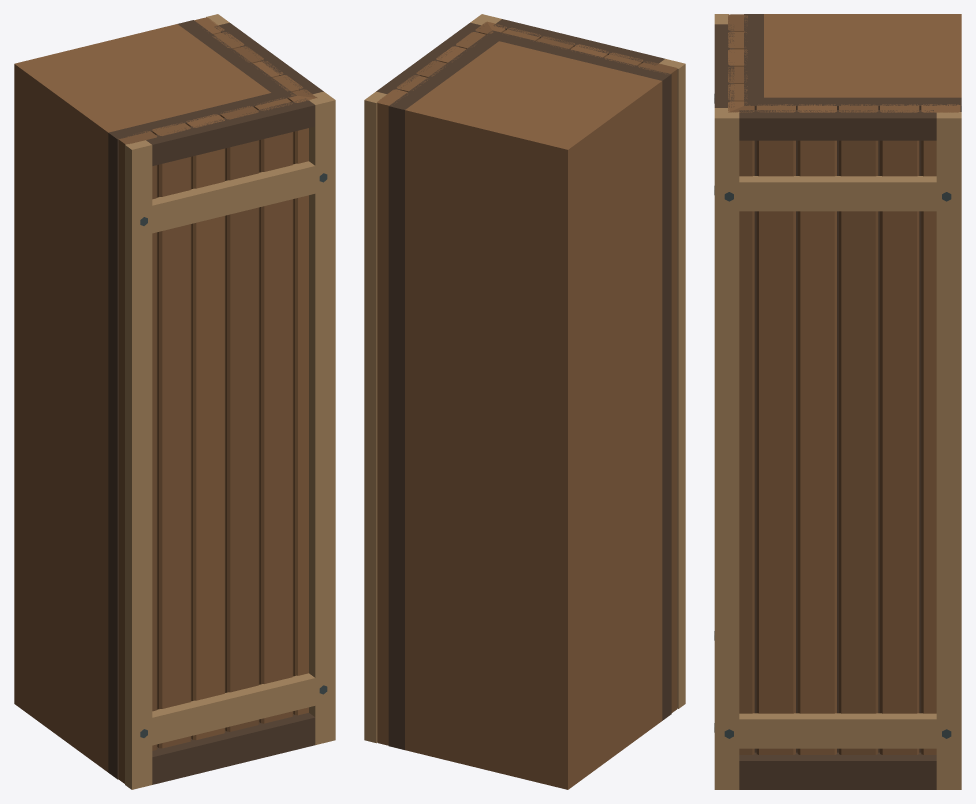
File: wall_barn_corner.glb
3 renders of one model, left to right at view 1: azimuth 30°, elevation 25°; view 2: azimuth 150°, elevation 25°; view 3: azimuth 270°, elevation 25°, orthographic. The views are drawn at different scales.
Visible parts, largest first — view 1: face_front, geometry, face_right; view 2: geometry, face_right, face_front; view 3: face_right, geometry, face_front.
Part boxes in pixels (bbox=[...]): face_front: bbox=[108, 93, 335, 789]; geometry: bbox=[14, 24, 270, 772]; face_right: bbox=[178, 14, 334, 99]; geometry: bbox=[405, 41, 662, 789]; face_right: bbox=[364, 14, 498, 749]; face_front: bbox=[482, 14, 685, 720]; face_right: bbox=[714, 97, 961, 789]; geometry: bbox=[764, 14, 961, 97]; face_front: bbox=[714, 14, 763, 732].
Bounding box in the file's own units: 1 × 3 × 1.
